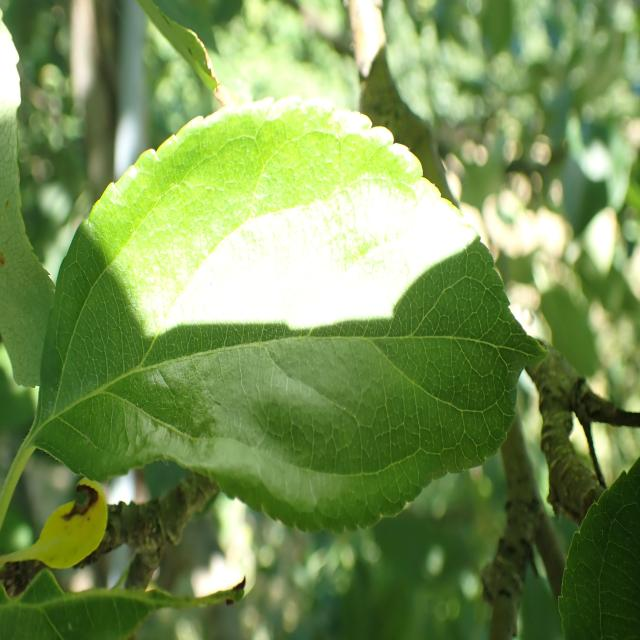healthy: (40, 95, 548, 534), (0, 11, 58, 391), (556, 455, 640, 640)
